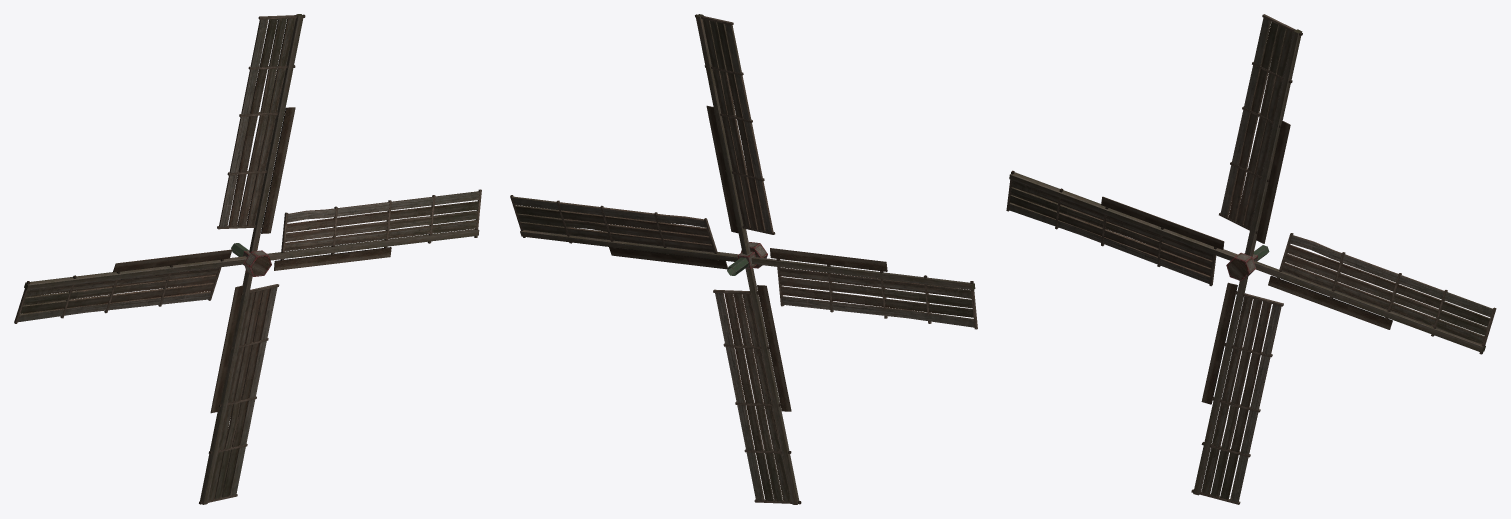
Rendered from elice.obj.
3 renders of one model, left to right at view 1: azimuth 30°, elevation 25°; view 2: azimuth 150°, elevation 25°; view 3: azimuth 330°, elevation 25°, orthographic. The views are drawn at different scales.
Parts seen in each view (by area): view 1: lod_0_windmill_0; view 2: lod_0_windmill_0; view 3: lod_0_windmill_0.
Boxes of the visible parts, x1,y1,x2,y2 form: lod_0_windmill_0: (14, 14, 481, 504); lod_0_windmill_0: (510, 14, 977, 504); lod_0_windmill_0: (1006, 14, 1496, 504).
Size of the model in its own units: 2.34 by 2.27 by 0.2207.
1 material, 1 textured.
